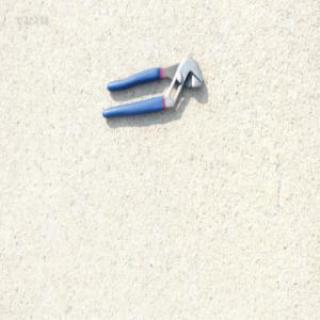Pliertrack_idkeyframe: (100, 57, 204, 121)
